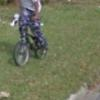bicycles: (12, 16, 51, 68)
